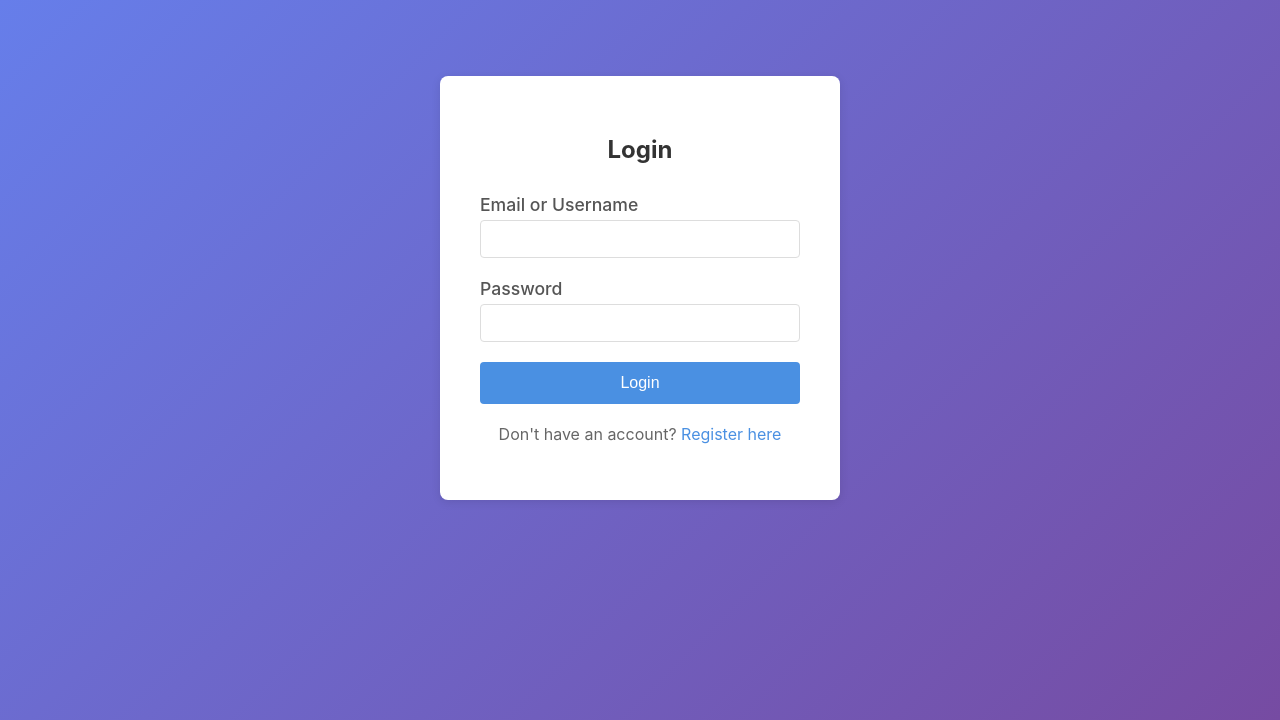
Test case: Login Component › Failed Login › should display generic error message when API error has no message
Step 1. Type "testuser" into the field labelled "Email or Username" → point(640, 240), box [480, 220, 800, 258]
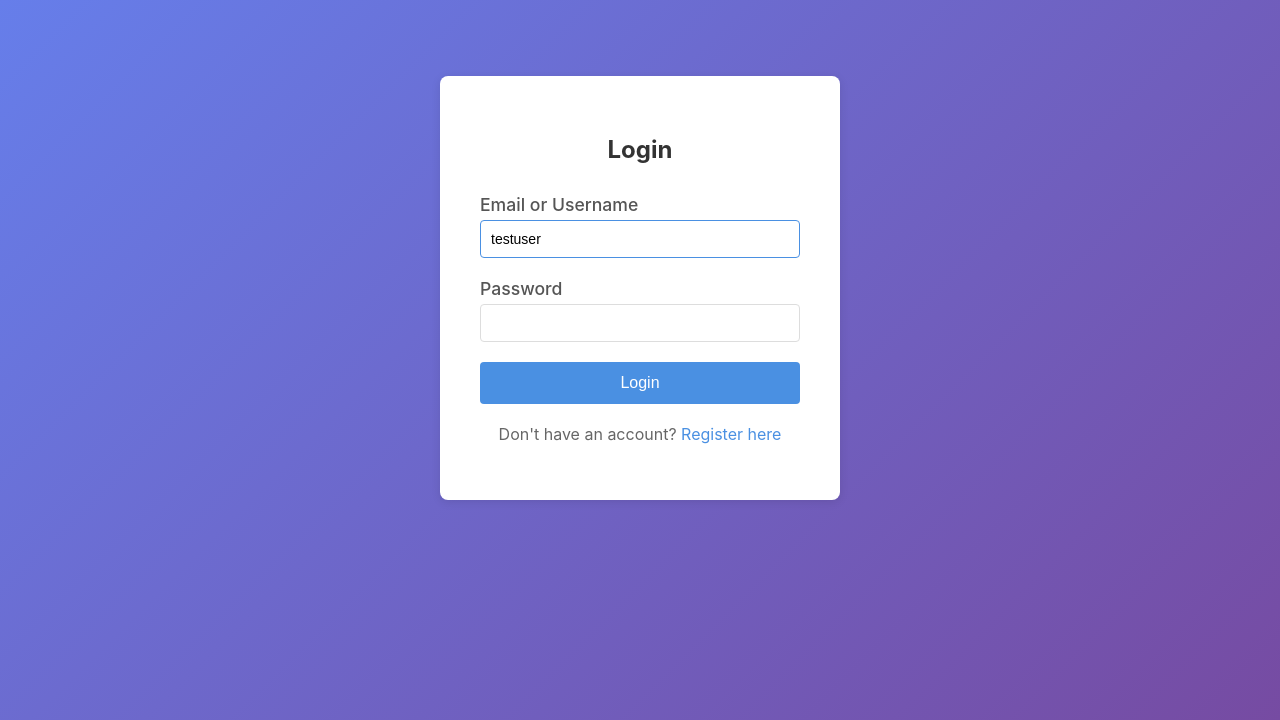
Step 2. Type "password123" into the password field labelled "Password" → point(640, 324), box [480, 304, 800, 342]
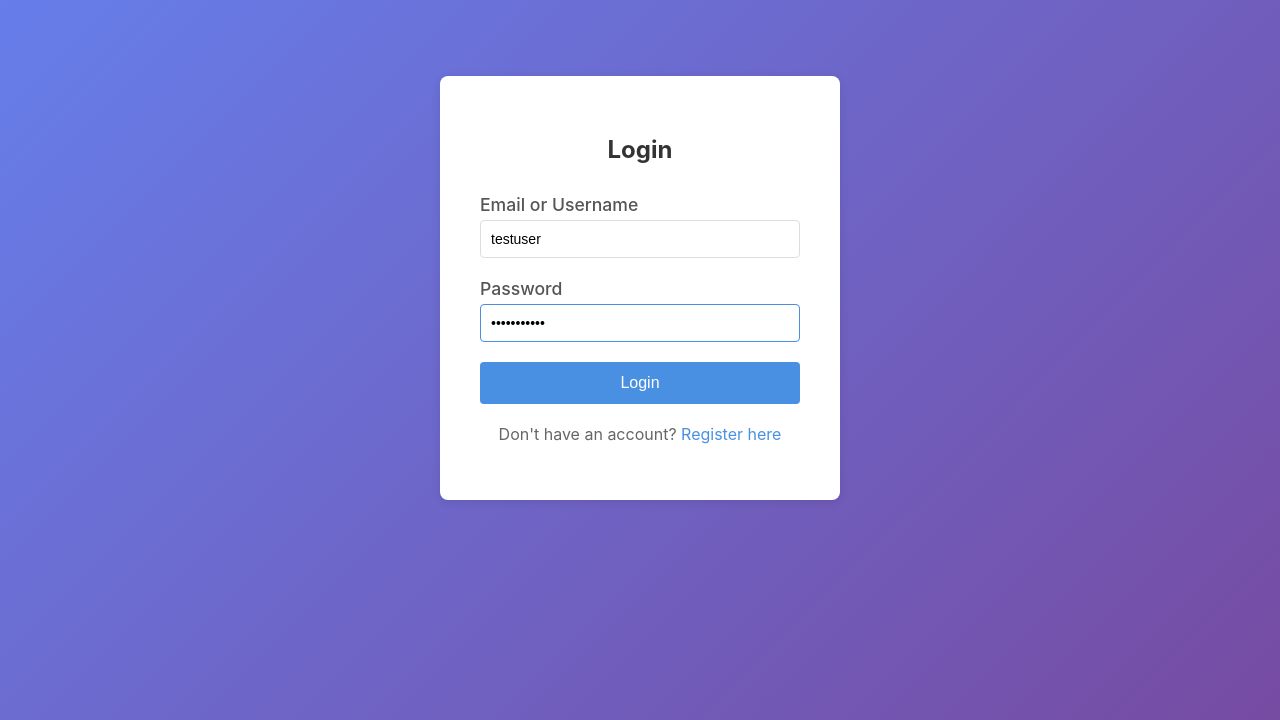
Step 3. Click the button "Login" → point(640, 384), box [480, 362, 800, 404]
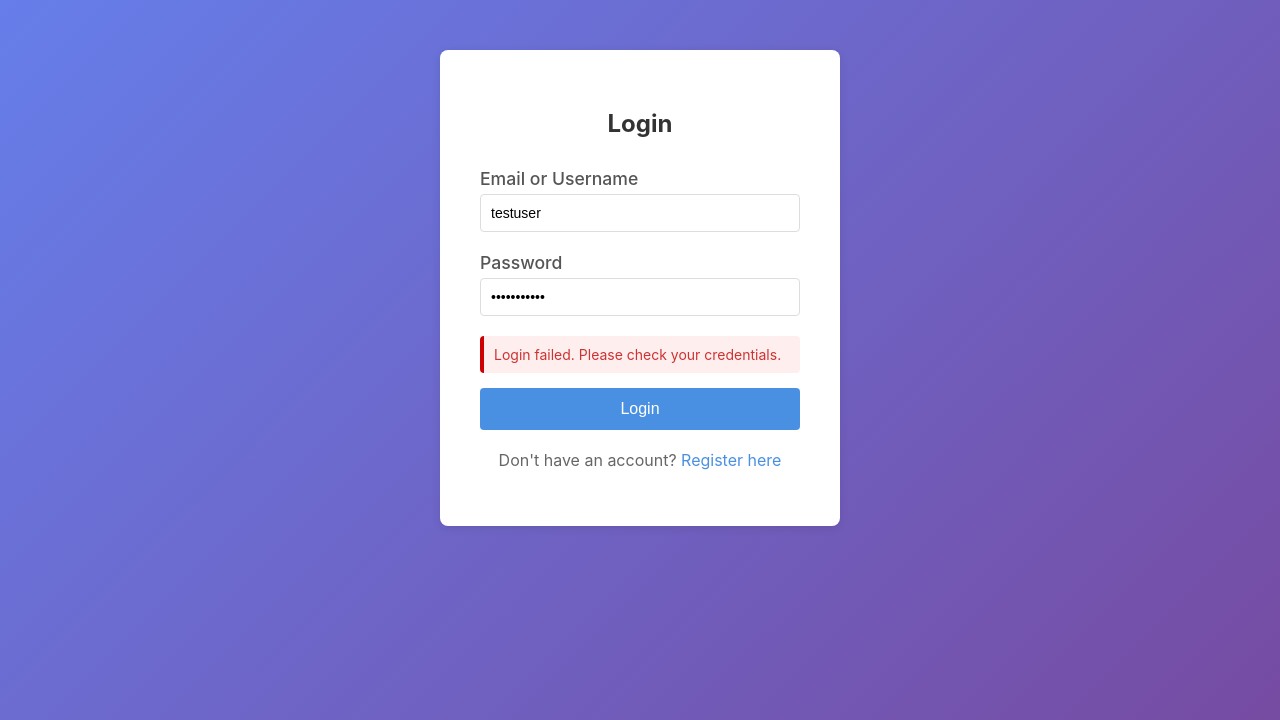
expect the text "Login failed. Please check your credentials." is shown: met, box [480, 336, 800, 374]
